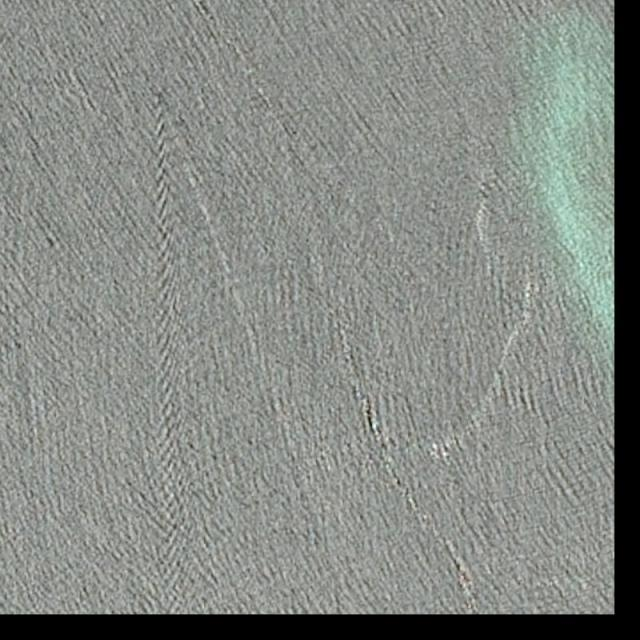ship: (158, 90, 165, 108)
